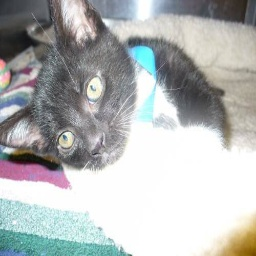cat: (1, 0, 229, 206)
